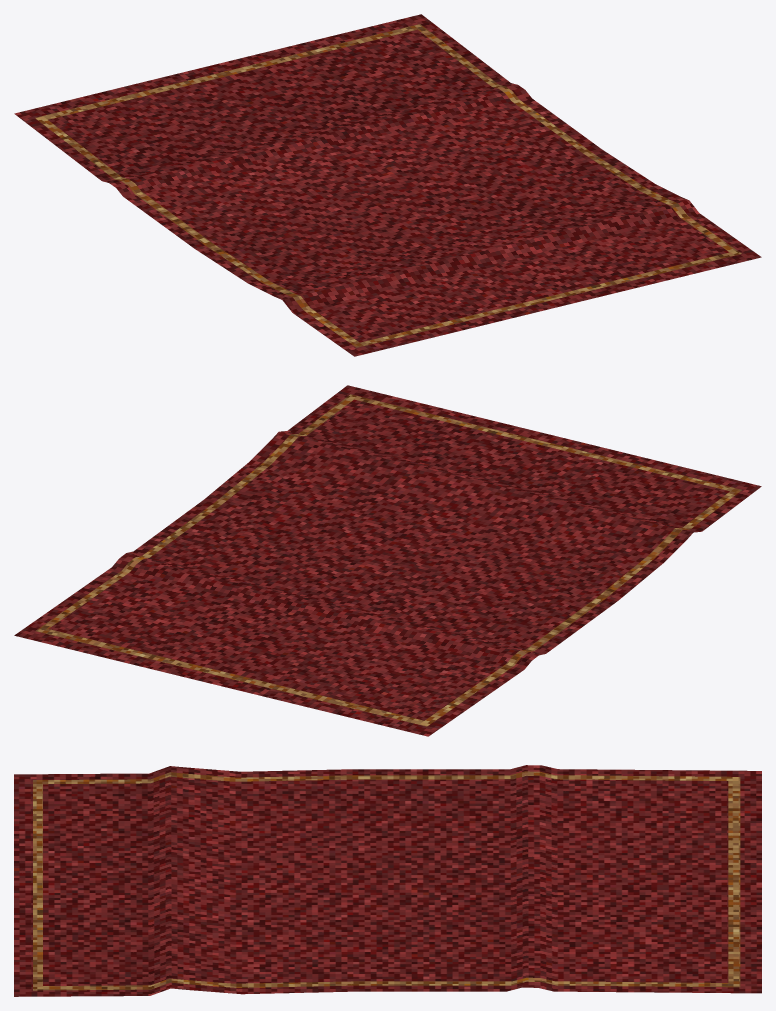
File: rug1_final.fbx
3 views of the same model, one above another, from view 1: azimuth 30°, elevation 25°; view 2: azimuth 150°, elevation 25°; view 3: azimuth 270°, elevation 25° (orthographic). The views are drawn at different scales.
Visible parts, largest first — view 1: Carpet_1.001; view 2: Carpet_1.001; view 3: Carpet_1.001.
Boxes of the visible parts, x1,y1,x2,y2 form: Carpet_1.001: (14, 14, 761, 356); Carpet_1.001: (14, 385, 761, 736); Carpet_1.001: (14, 765, 761, 996).
Size of the model in its own units: 275 by 3.94 by 382.
